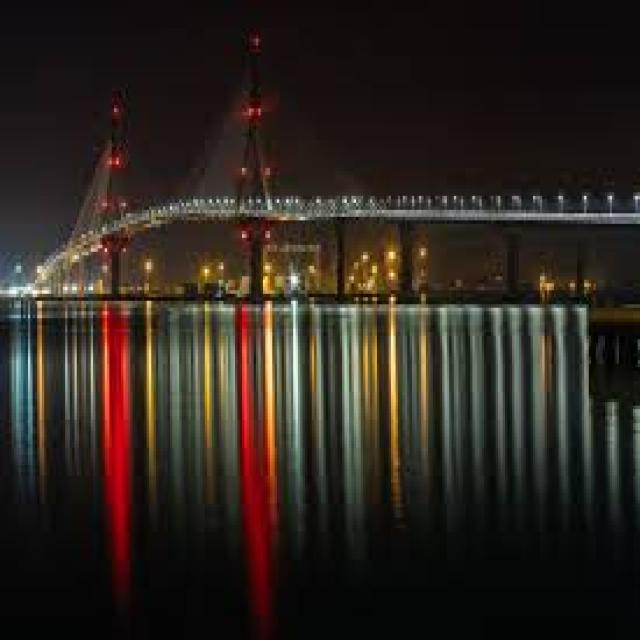Bridges: (14, 74, 640, 368)
